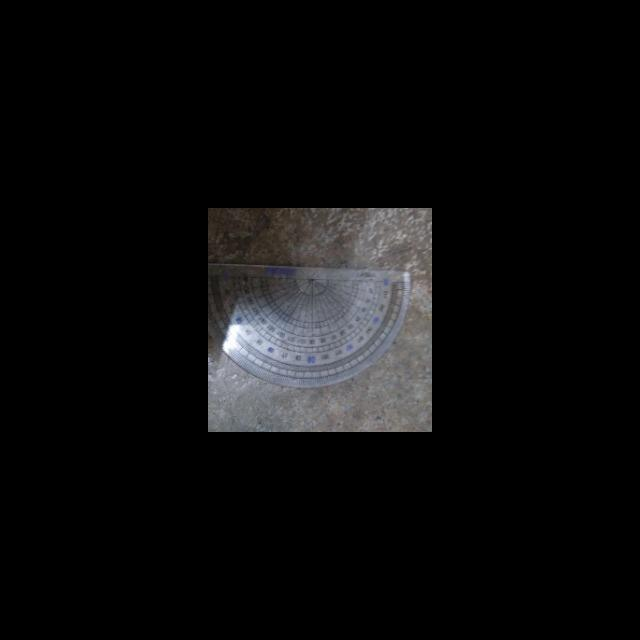plastic: (208, 259, 413, 390)
